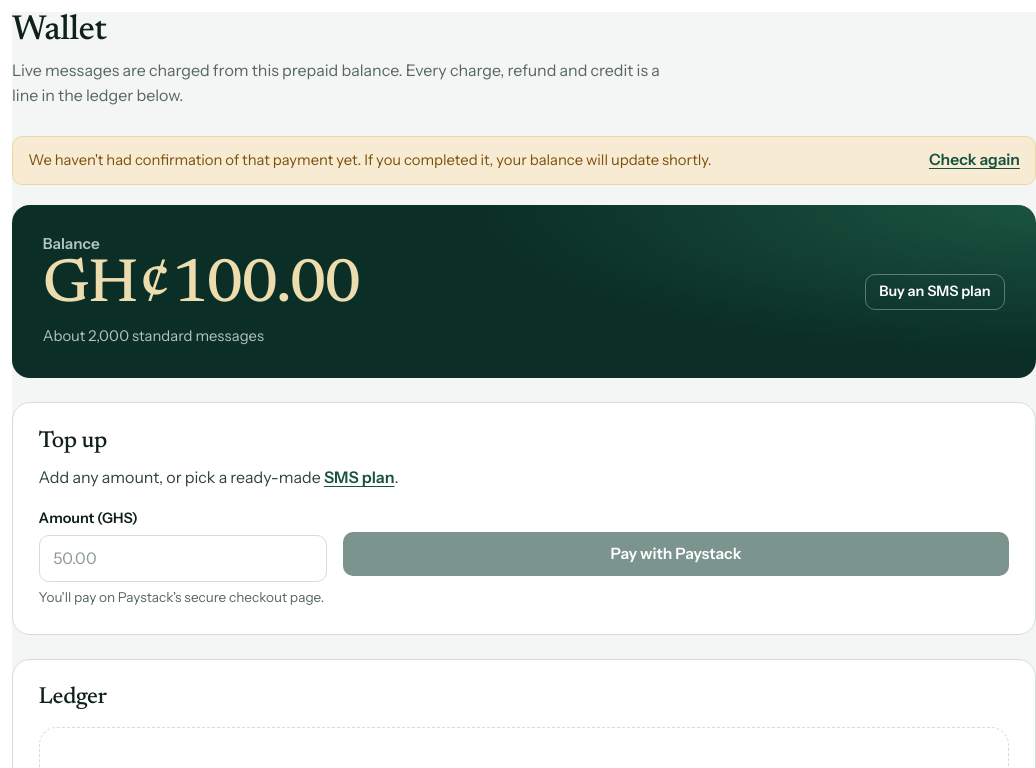
Test case: Wallet: returning from Paystack › shows a pending message with a retry button, and retry re-checks
The width and height of the screenshot is (1036, 768).
Expected: the text "haven't had confirmation" is shown, 28,151 -> 712,169
Click the button "Check again".
click(974, 160)  # box 929,151 -> 1020,170
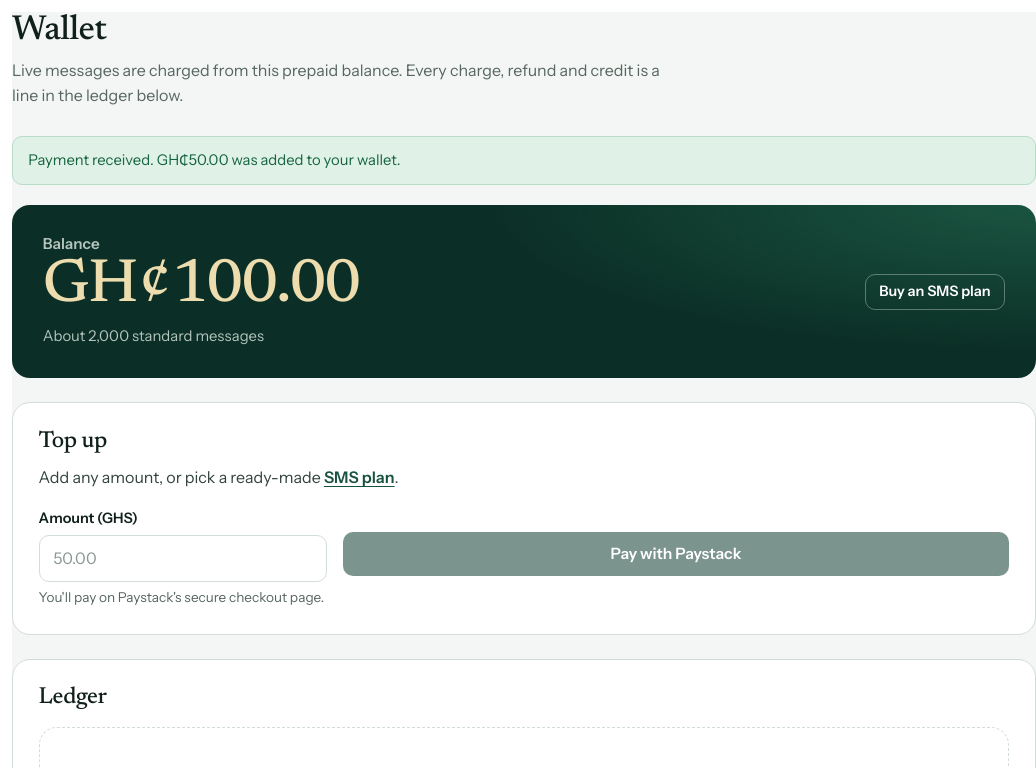
Now the text "Payment received. GH₵50.00 was added to your wallet." is shown, box 28,149 -> 400,172
